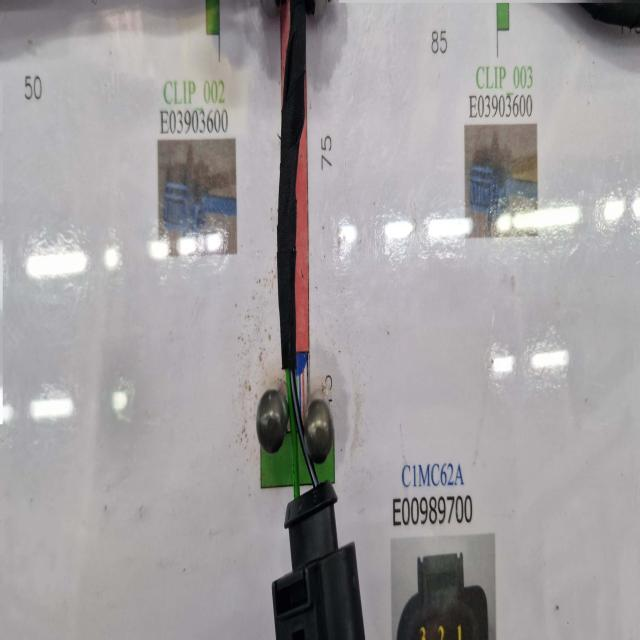Connector: (272, 481, 365, 638)
Gape: (275, 348, 319, 493)
MHEV_N11_Cable: (278, 0, 314, 371)
